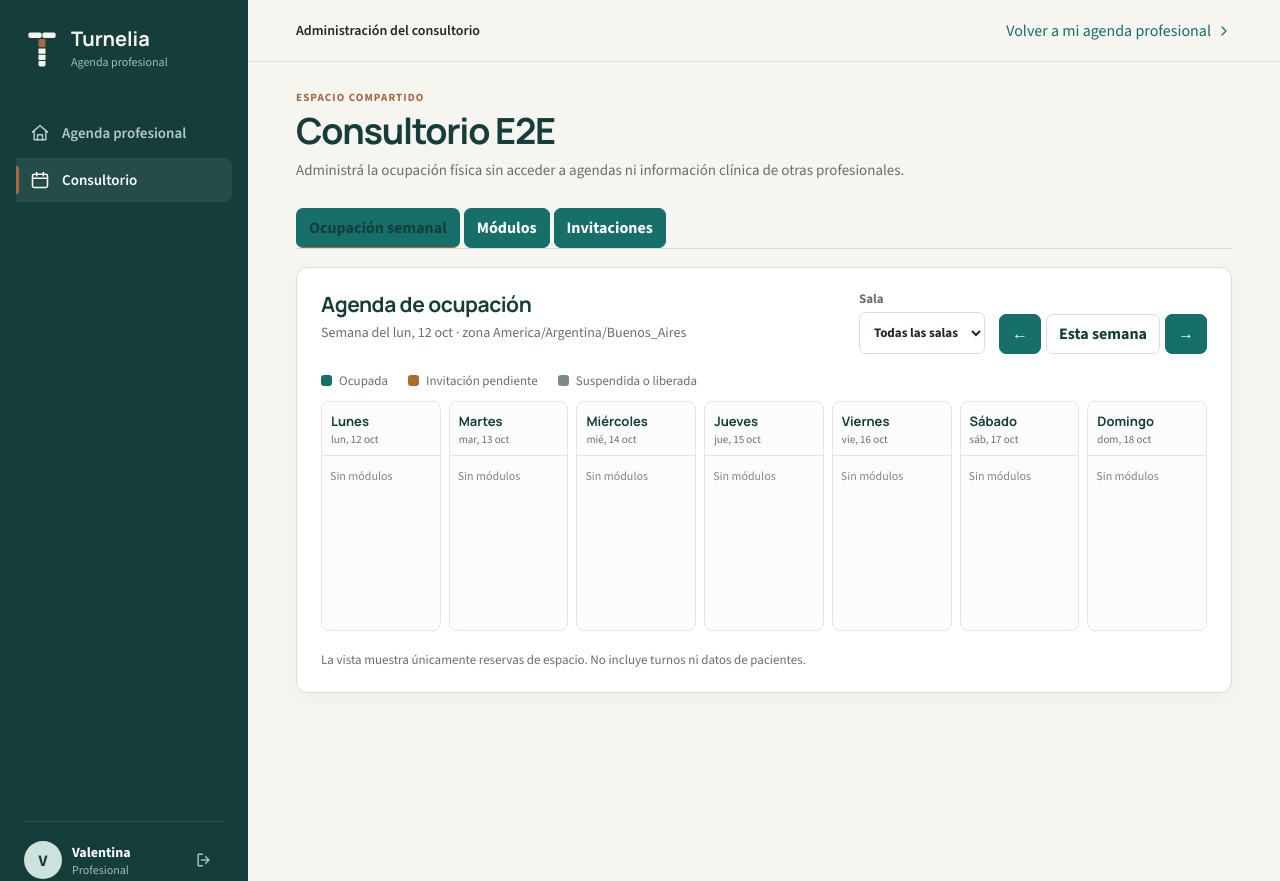
panel administrativo de Consultorio › cuando backend bloquea un cambio sólo presenta el conteo de turnos
Click the button "Módulos" at (507, 228), box [464,208,550,248]
(page scrolled)
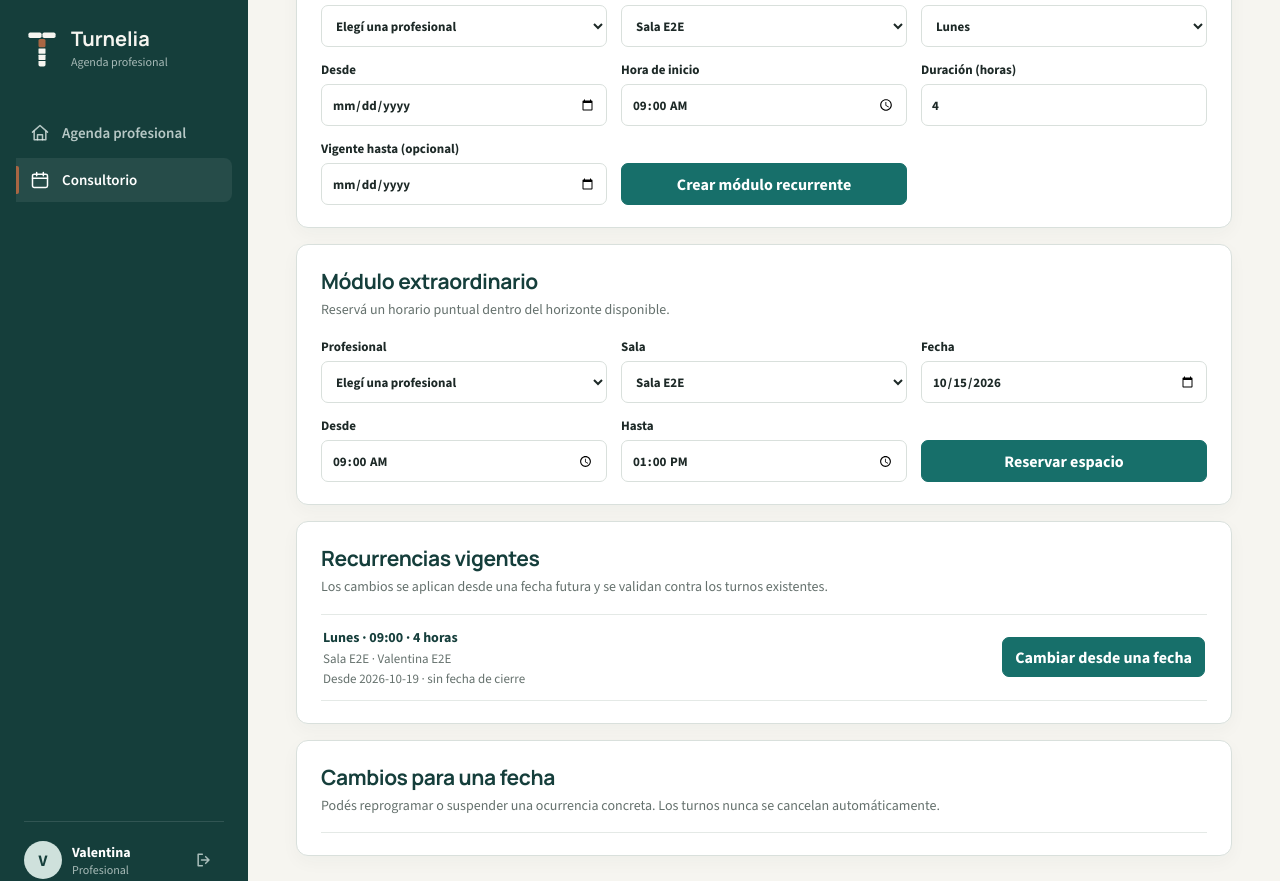
Click the button "Cambiar desde una fecha" at (1104, 657), box [1002,637,1205,677]
(page scrolled)
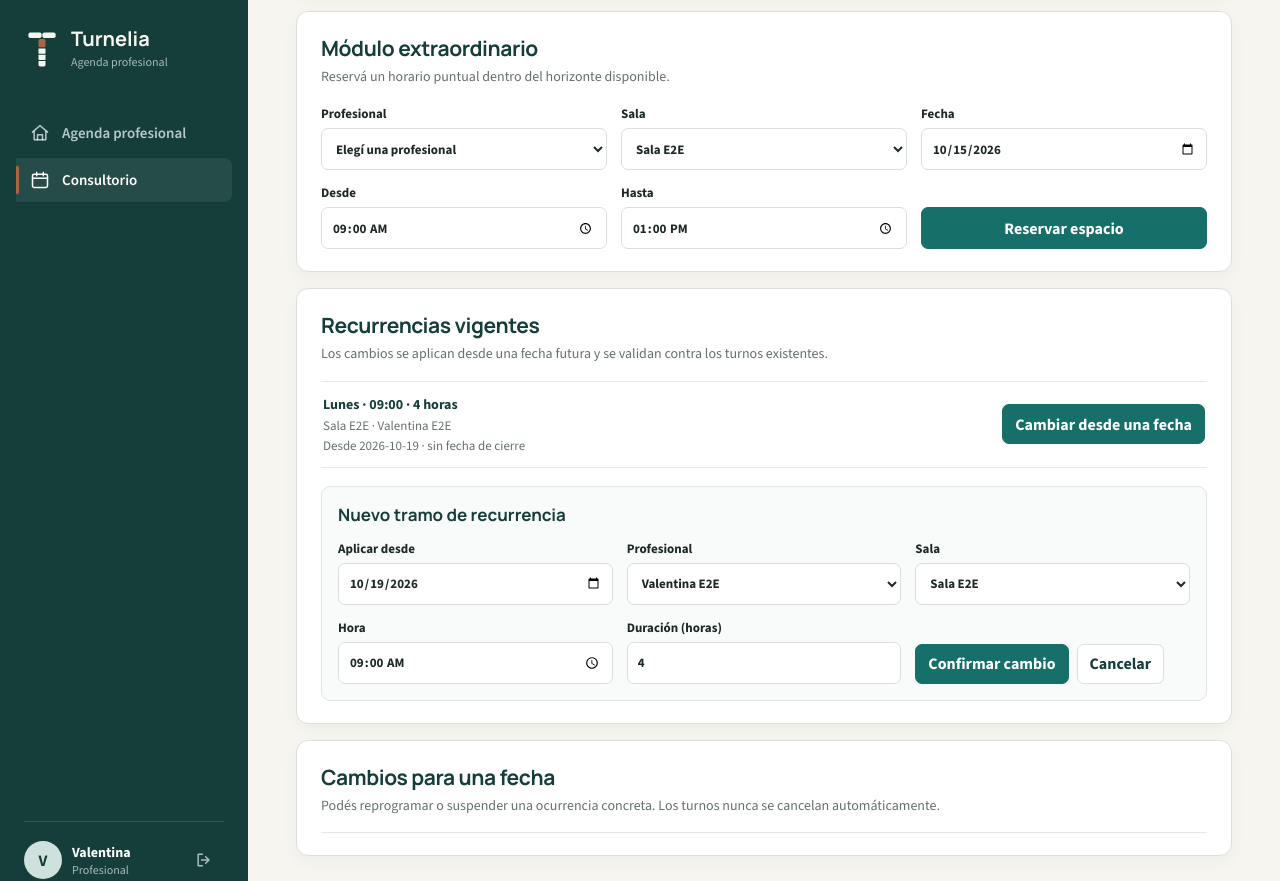
Click the button "Confirmar cambio" at (992, 664), box [915,644,1068,684]
(page scrolled)
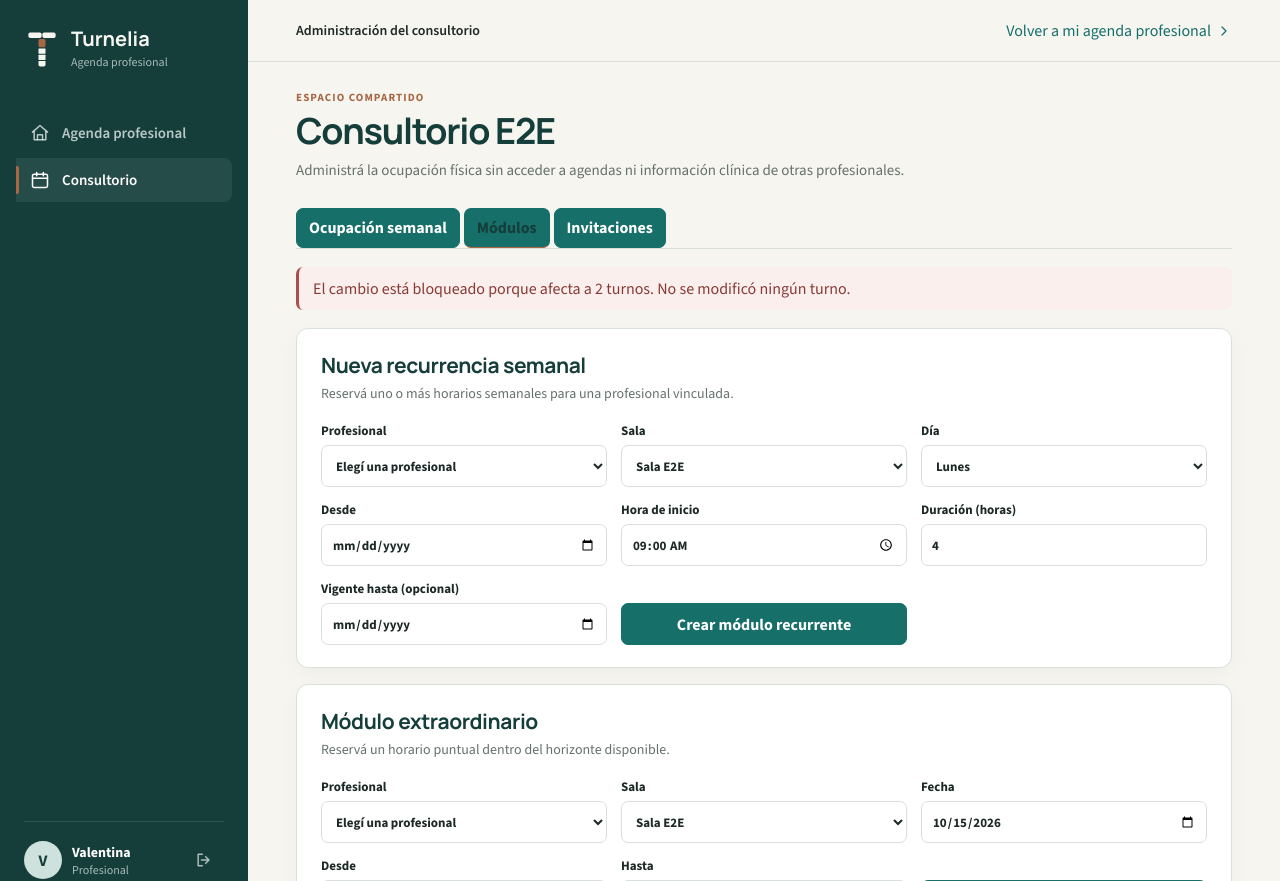
Expected: the message does not show "No mostrar detalles", [296,267,1232,310]
Expected: the message shows "afecta a 2 turnos", [313,278,851,299]
